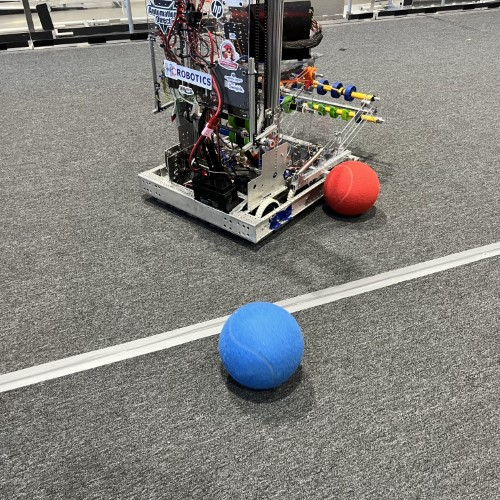blue: (217, 299, 306, 392)
red: (323, 161, 380, 218)
